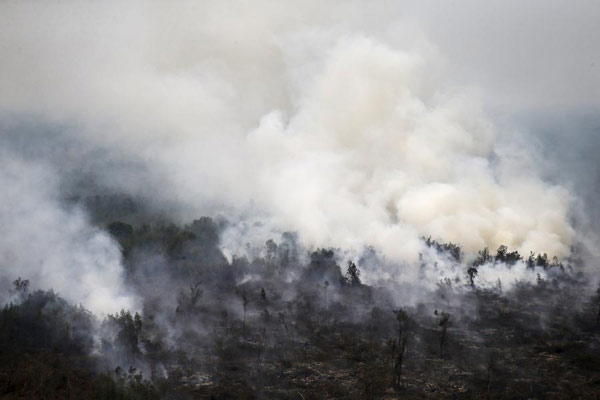smoke: (0, 1, 596, 313)
